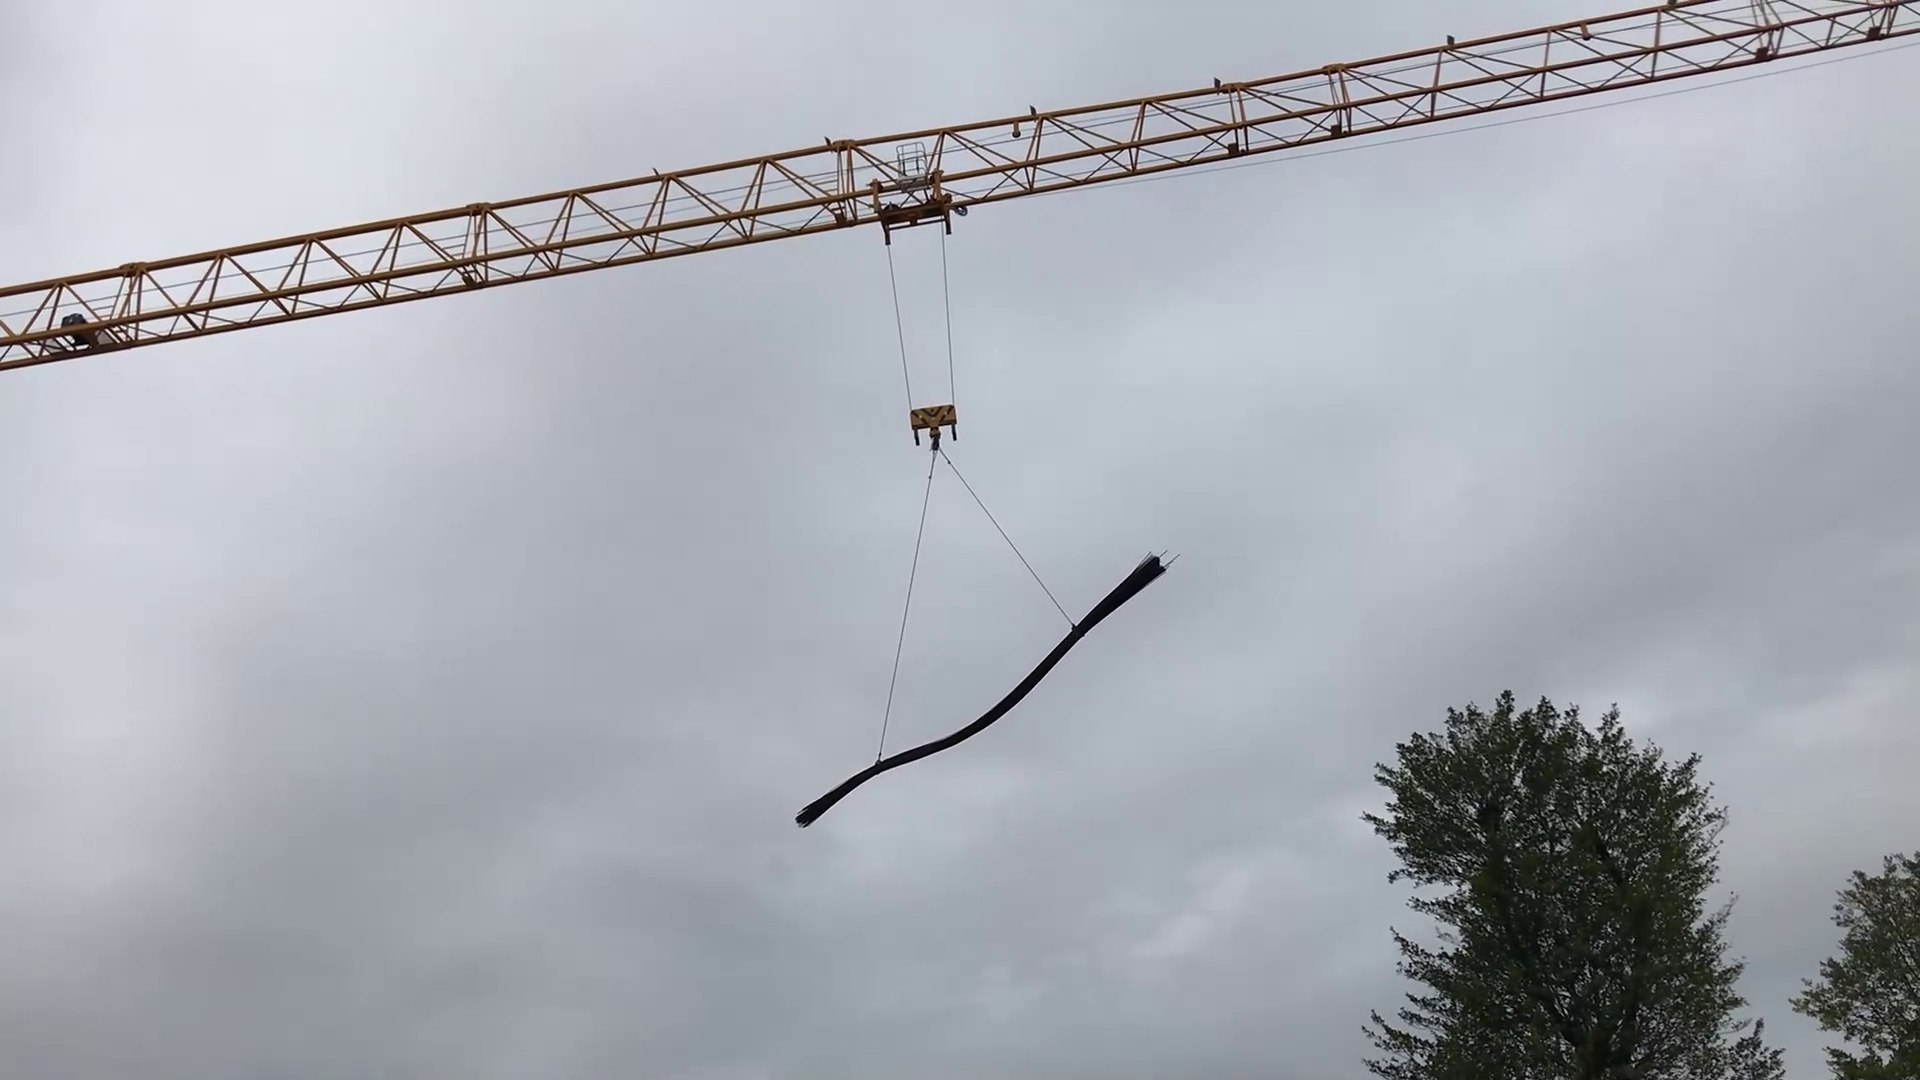hook: (907, 402, 963, 456)
rebar: (789, 538, 1184, 837)
